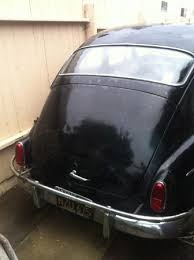Dent: (63, 120, 148, 197)
